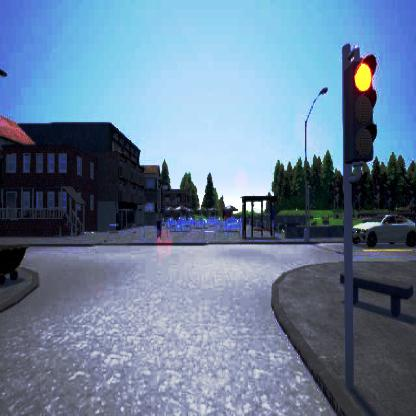vehicle: (352, 214, 415, 247)
